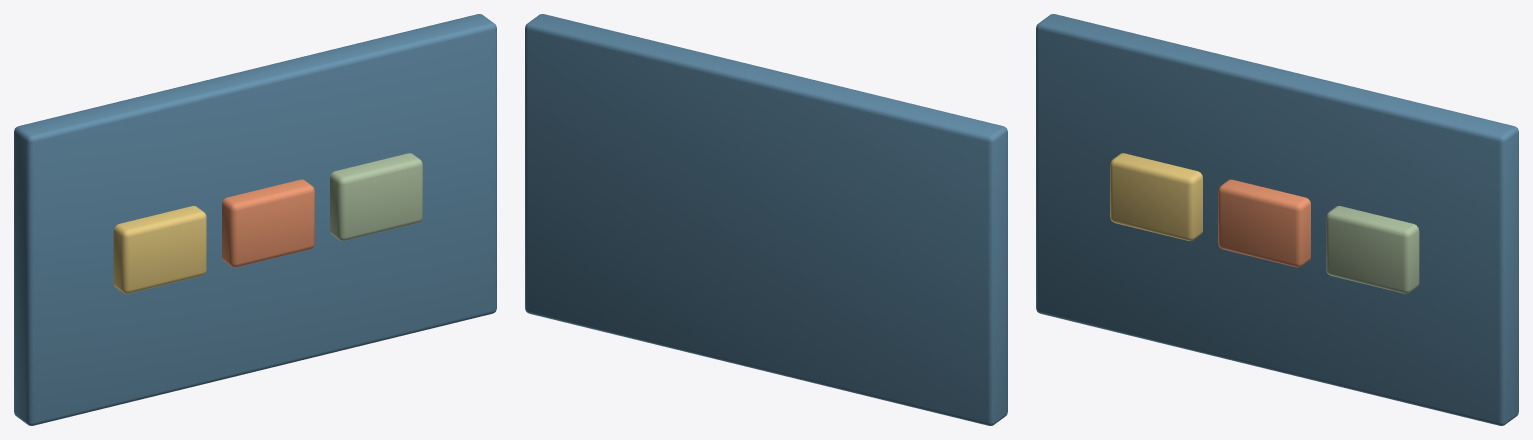
The model's file is task-board.glb.
3 renders of one model, left to right at view 1: azimuth 30°, elevation 25°; view 2: azimuth 150°, elevation 25°; view 3: azimuth 330°, elevation 25°, orthographic.
Visible parts, largest first — view 1: panel.003, card-0, card-1, card-2; view 2: panel.003; view 3: panel.003, card-2, card-1, card-0.
Part boxes in pixels (box(x1,y1,x2,y2)): panel.003: box(14, 14, 496, 425); card-0: box(113, 206, 206, 293); card-1: box(222, 179, 314, 267); card-2: box(330, 153, 422, 240); panel.003: box(525, 14, 1007, 425); panel.003: box(1036, 14, 1518, 425); card-2: box(1326, 206, 1419, 293); card-1: box(1218, 179, 1310, 267); card-0: box(1110, 153, 1202, 240).
Bounding box in the file's own units: 2.2 × 1.3 × 0.2268.
